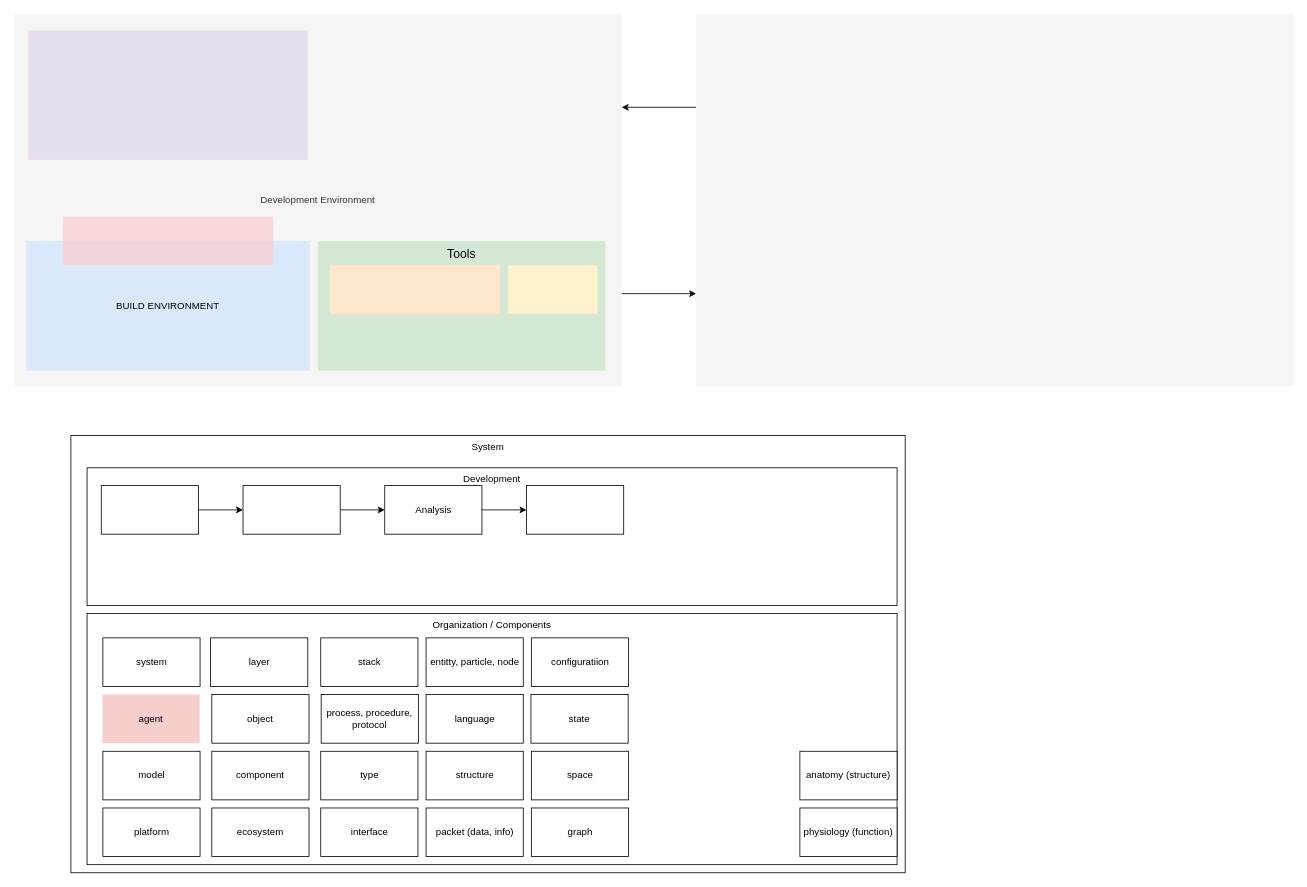
This 1307x887 diagram has some shape labels left out. The centre of each missing label's shape, as x and y in pixels:
"3rd Party" goes at point 552,289.
"Design" goes at point 149,509.
"Dev Environment Installation" goes at point 167,240.
"Implementation" goes at point 291,509.
"Opimization" goes at point 575,509.
"Product" goes at point 995,200.
"Source Code" goes at point 167,95.
"System Designer" goes at point 415,289.
